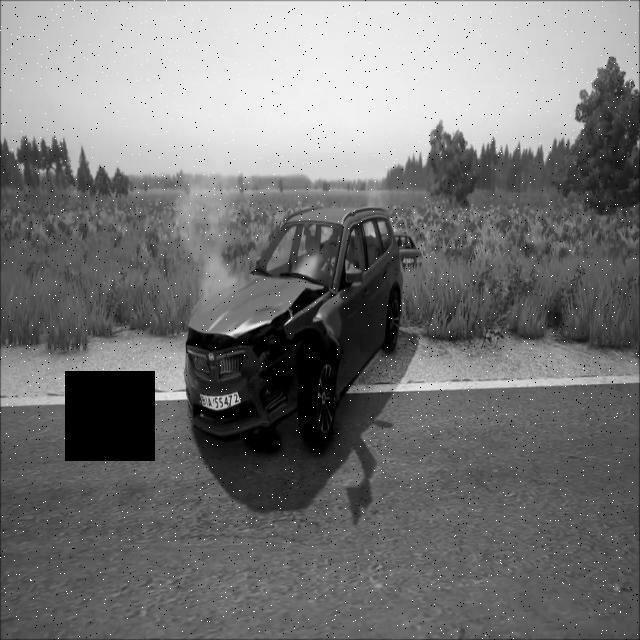vehicle: (175, 135, 497, 468)
